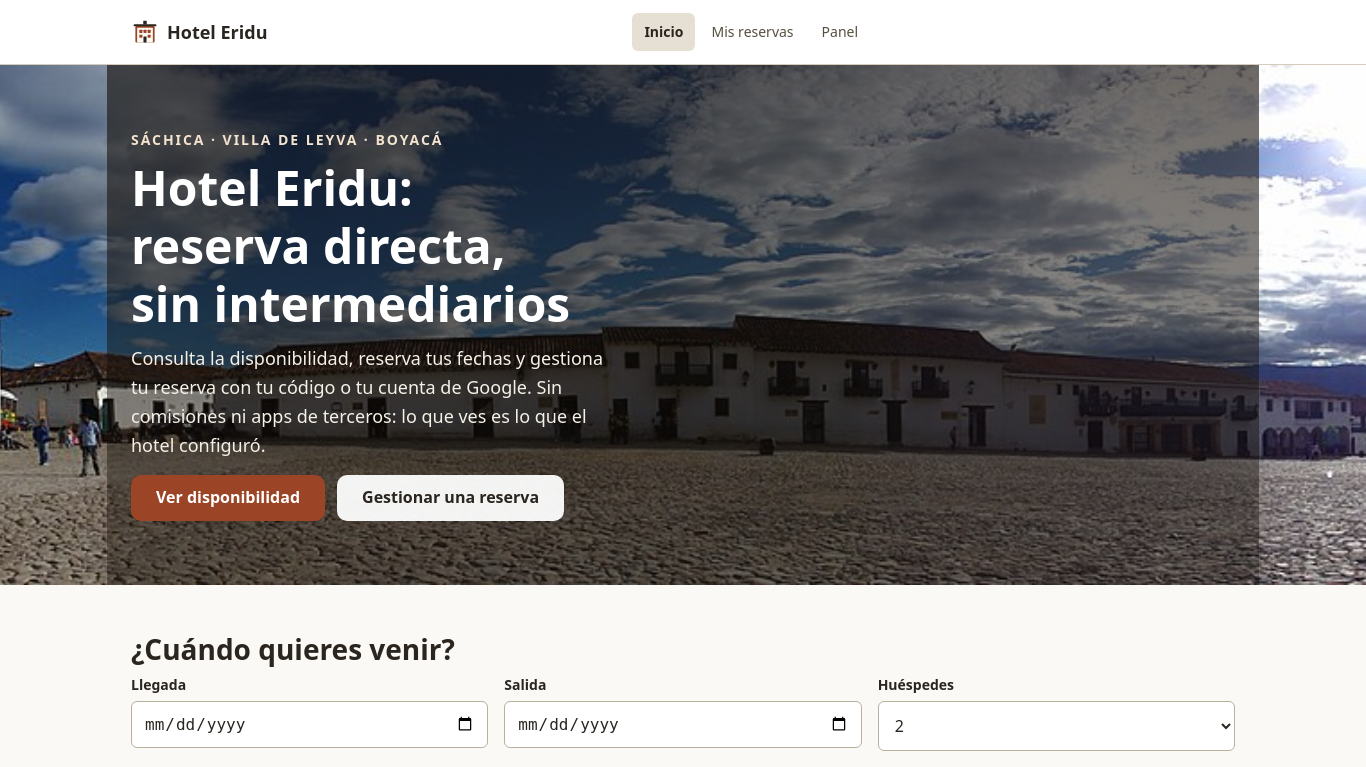
Test: App › al navegar se vuelve arriba, no a mitad de página
Check: the heading "¿Cuándo quieres venir?" is shown, box [131,630,455,668]
Click the link "Mis reservas": (753, 31) [712,22,794,41]
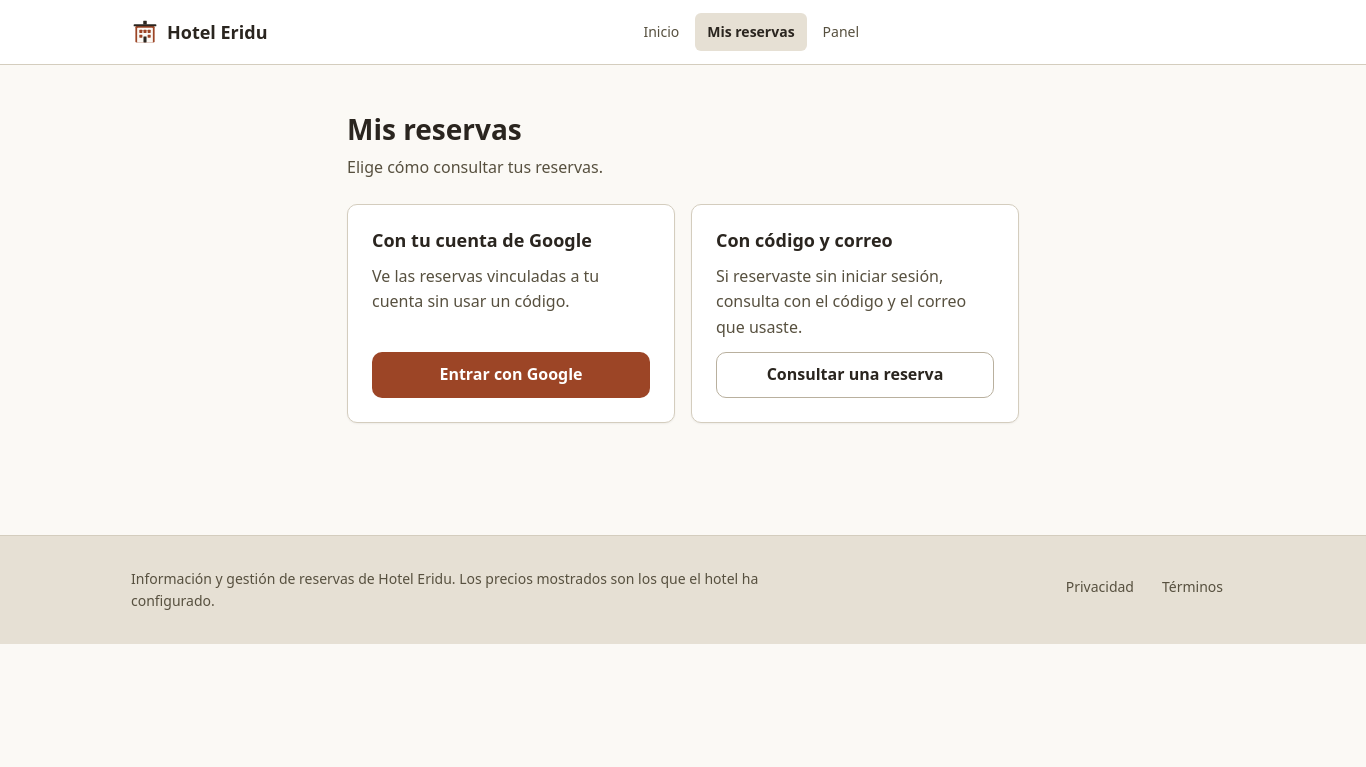
Check: the heading "Mis reservas" is shown, box [347,110,522,148]
